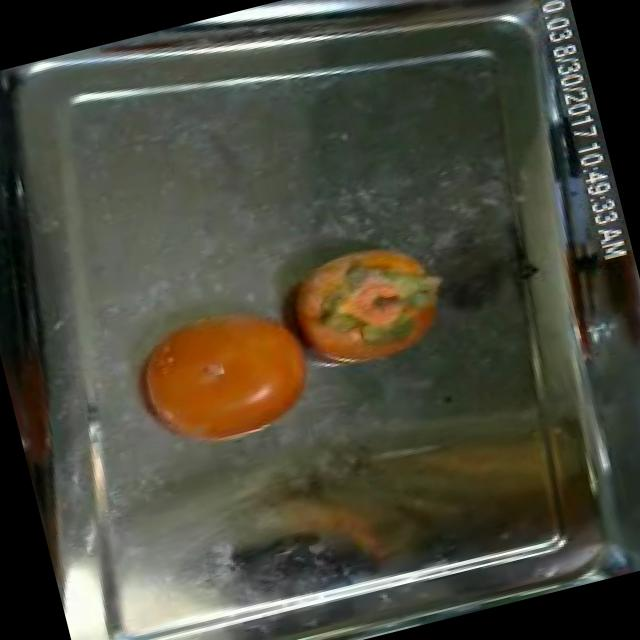Fruit: (100, 272, 347, 476), (264, 214, 471, 393)
